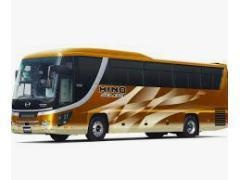bus: (11, 46, 228, 143)
